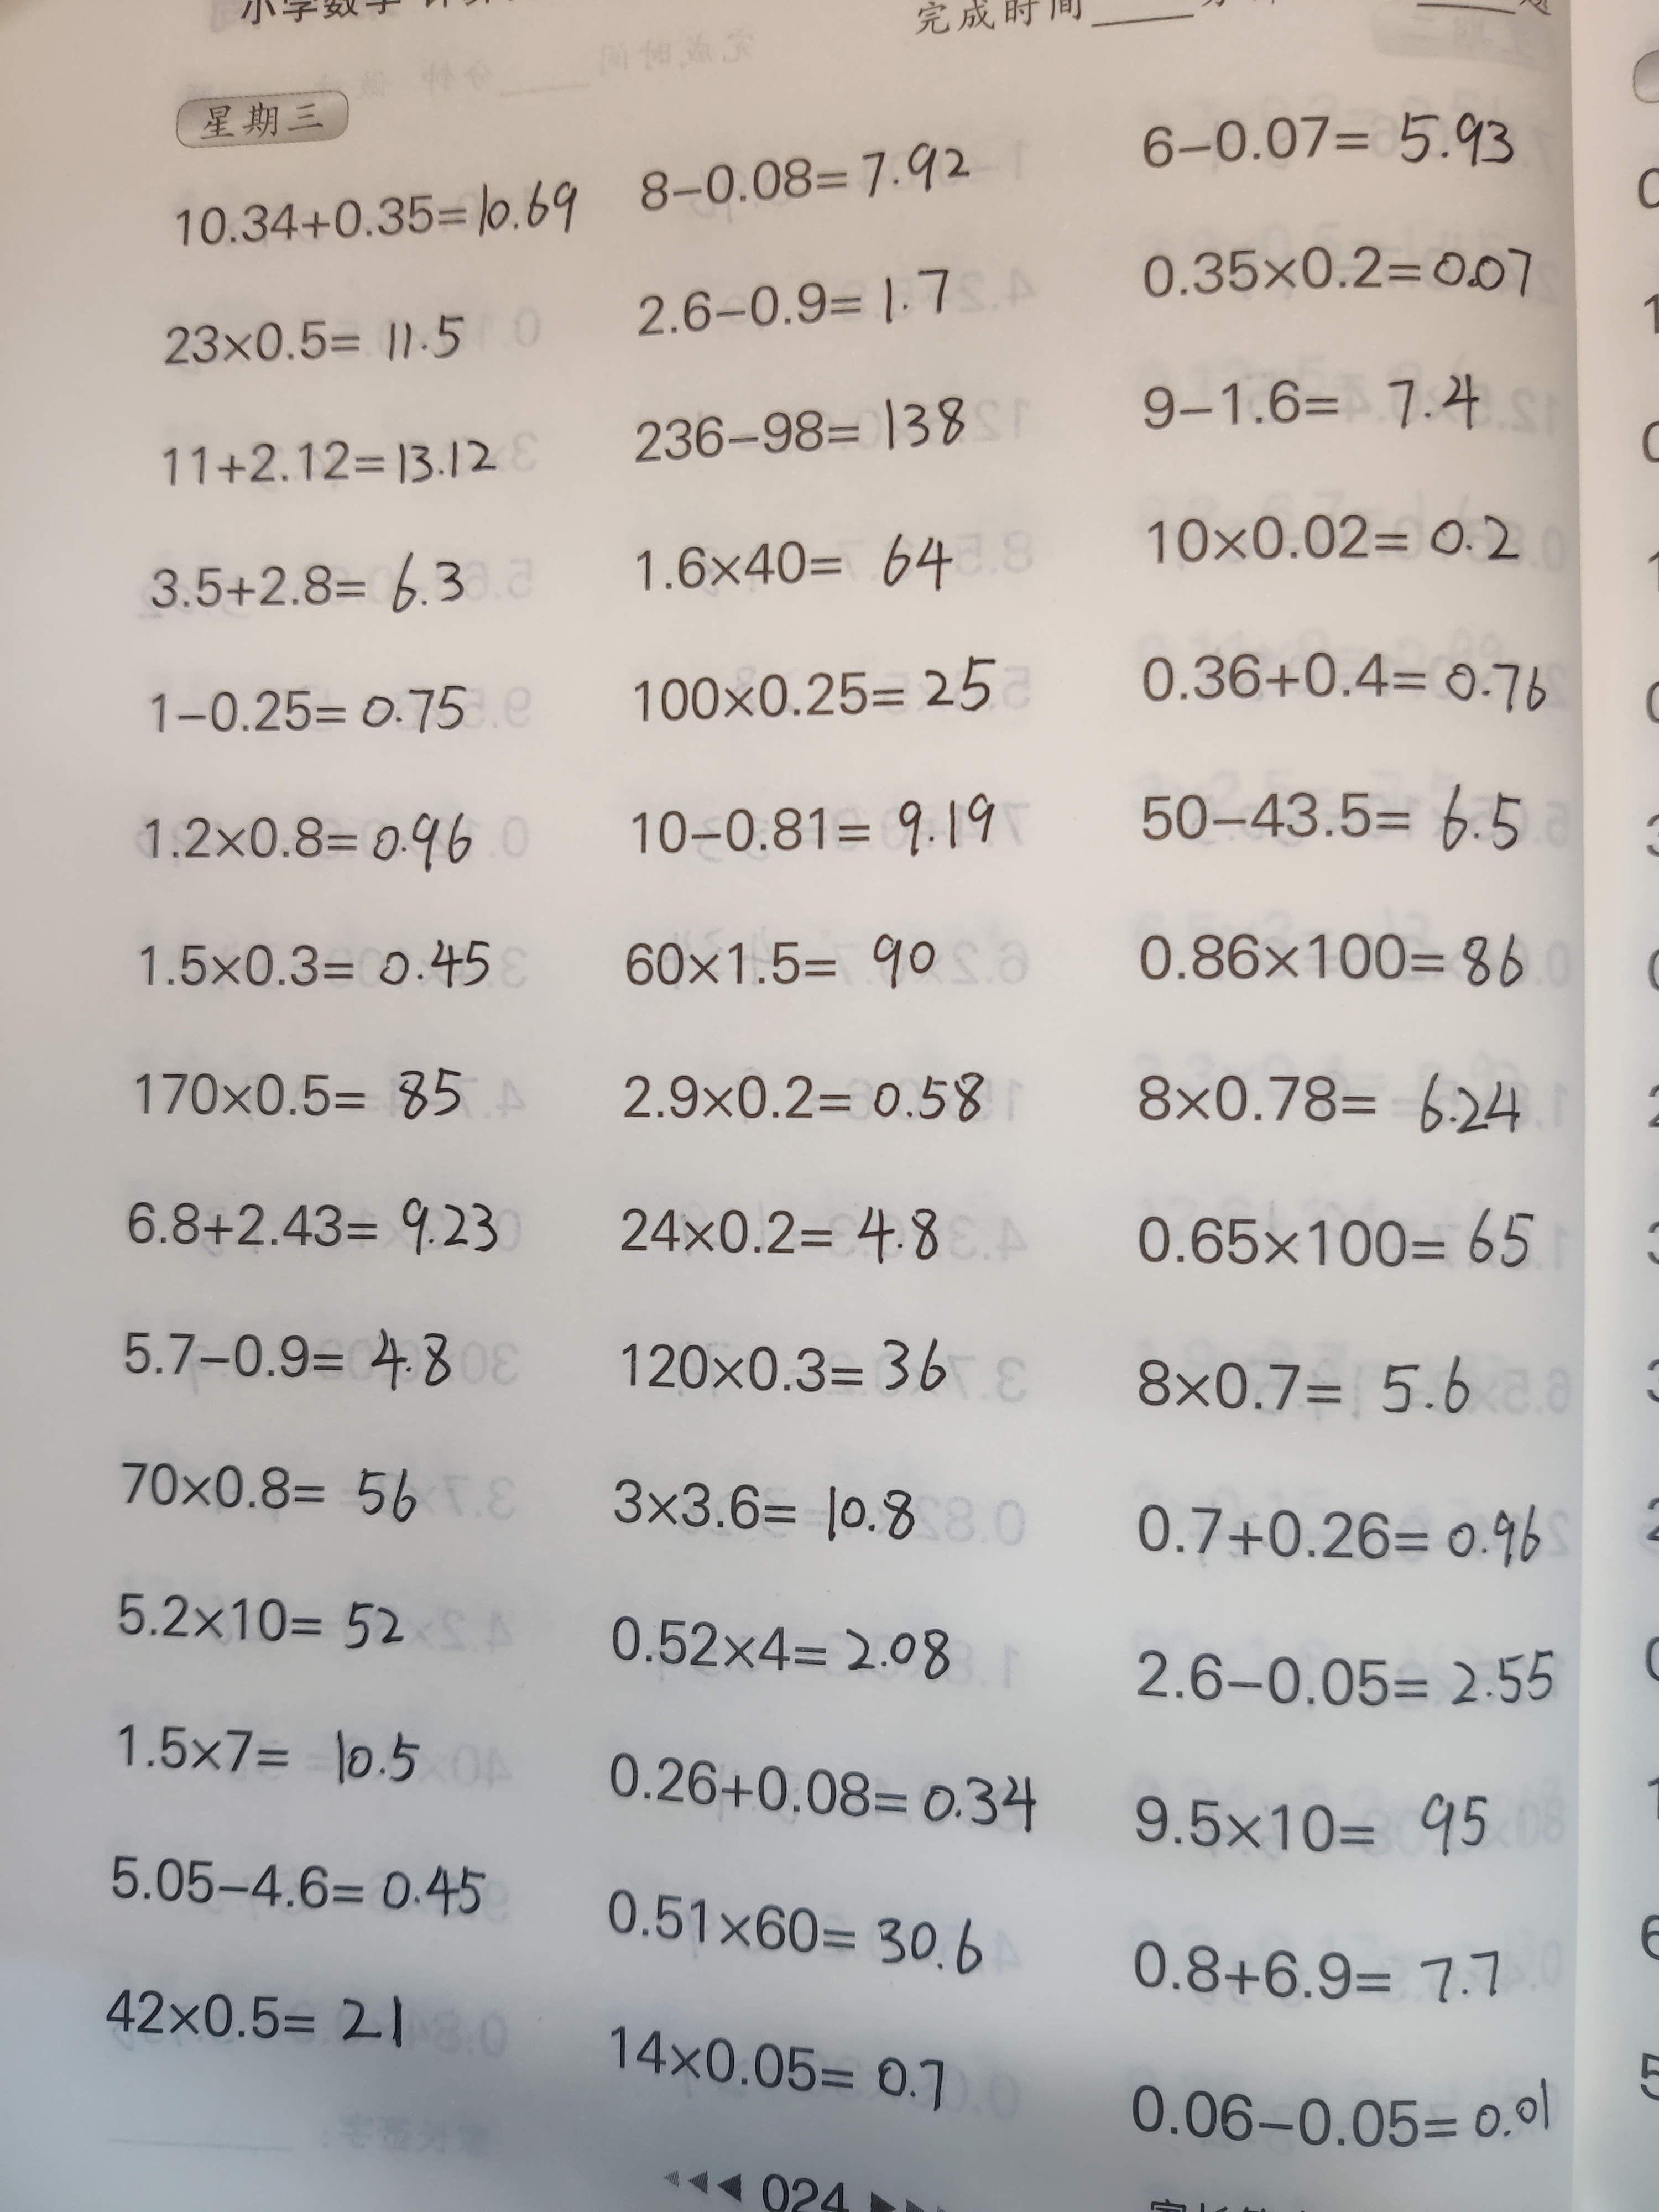equation: (591, 1730, 1040, 1857), (1117, 2055, 1563, 2174), (1119, 1620, 1572, 1726), (1105, 1911, 1542, 2017), (1119, 1484, 1547, 1592), (599, 2010, 974, 2132), (1117, 766, 1547, 871), (1129, 87, 1523, 200), (587, 1872, 999, 1980), (105, 1834, 498, 1946), (1131, 625, 1551, 728), (598, 1580, 979, 1689), (1124, 1777, 1509, 1885), (1122, 1193, 1544, 1291), (1124, 909, 1544, 1007), (1129, 1054, 1530, 1151), (112, 1303, 455, 1414), (160, 171, 587, 260), (117, 1183, 516, 1277), (1134, 488, 1530, 582), (91, 1966, 434, 2074), (617, 387, 1002, 482), (599, 1045, 999, 1137), (606, 646, 1006, 735), (605, 1317, 955, 1418), (117, 1043, 472, 1143), (599, 1454, 929, 1561), (1126, 235, 1551, 317), (606, 1184, 948, 1284), (131, 542, 481, 637), (1114, 1346, 1497, 1433), (94, 1696, 434, 1794), (615, 789, 1002, 874), (626, 258, 962, 355), (633, 118, 967, 216), (101, 1447, 422, 1548), (617, 526, 971, 615), (150, 413, 505, 500), (594, 921, 967, 1003), (124, 921, 502, 1000), (120, 801, 479, 883), (132, 671, 486, 752), (1134, 359, 1486, 441), (110, 1578, 415, 1662), (155, 305, 477, 374)
